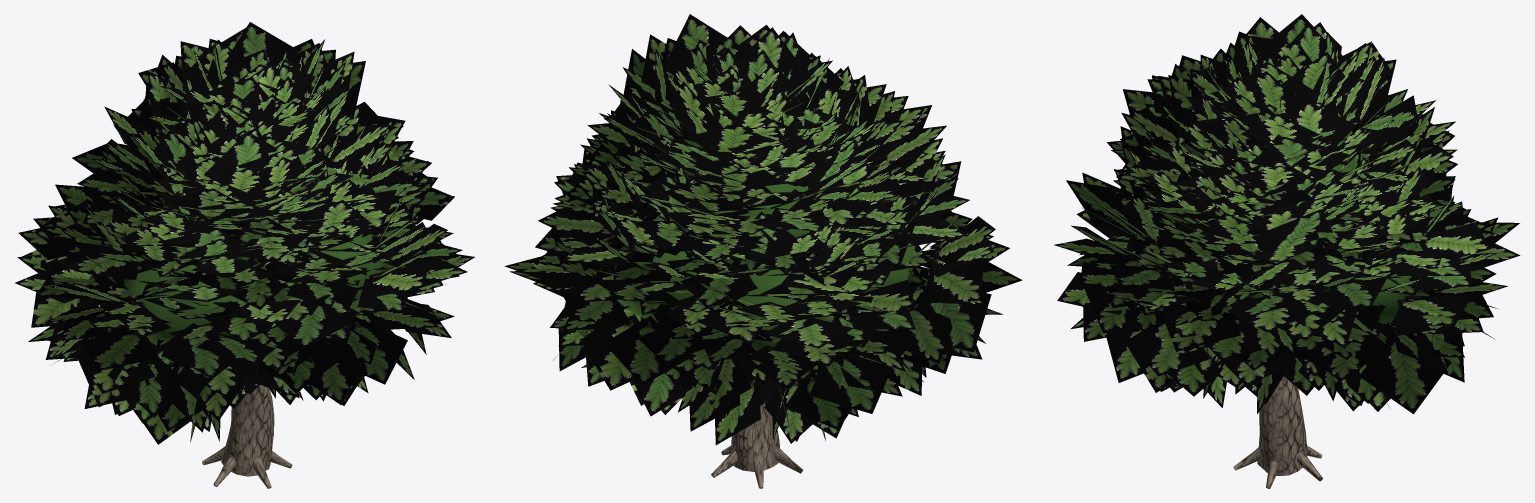
File: broadleaf_tree.glb
3 views of the same model, side by side, from view 1: azimuth 30°, elevation 25°; view 2: azimuth 150°, elevation 25°; view 3: azimuth 270°, elevation 25° (orthographic). The views are drawn at different scales.
Visible parts, largest first — view 1: broadleaf_tree_leaves, broadleaf_tree_Bark_Tree, broadleaf_tree_Leaf_Tree; view 2: broadleaf_tree_leaves, broadleaf_tree_Leaf_Tree, broadleaf_tree_Bark_Tree; view 3: broadleaf_tree_leaves, broadleaf_tree_Bark_Tree, broadleaf_tree_Leaf_Tree.
Part boxes in pixels (bbox=[...]): broadleaf_tree_leaves: bbox=[15, 22, 474, 444]; broadleaf_tree_Bark_Tree: bbox=[202, 385, 292, 488]; broadleaf_tree_Leaf_Tree: bbox=[123, 182, 383, 346]; broadleaf_tree_leaves: bbox=[504, 14, 1022, 444]; broadleaf_tree_Leaf_Tree: bbox=[610, 129, 915, 354]; broadleaf_tree_Bark_Tree: bbox=[711, 402, 803, 488]; broadleaf_tree_leaves: bbox=[1054, 14, 1520, 414]; broadleaf_tree_Bark_Tree: bbox=[1233, 376, 1322, 488]; broadleaf_tree_Leaf_Tree: bbox=[1166, 131, 1413, 323].
Bounding box in the file's own units: 8.31 × 8.16 × 7.84.
Materials: 3 (2 with a texture image).
